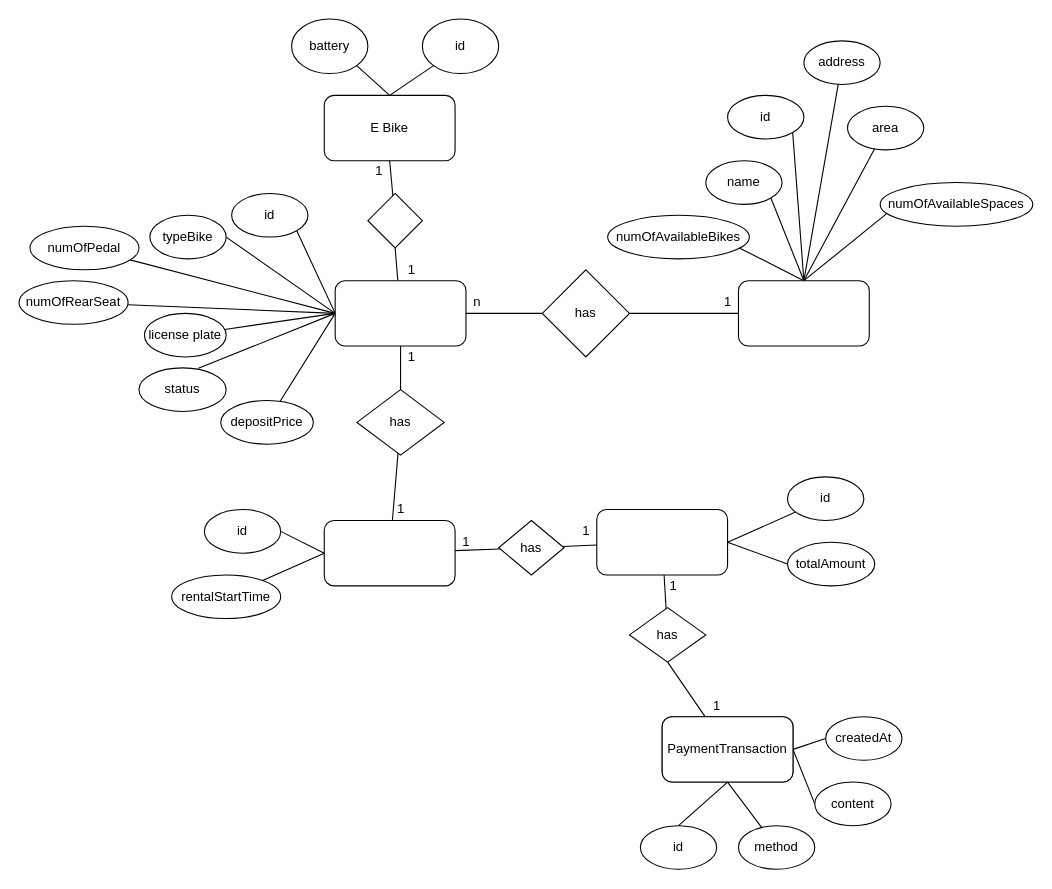
Image size: 1052x889. Some labels were removed from this diagram. The shapes that lost their labels are listed below. From the top down, each one's centre as x and y in pixels, then its label:
At point 394,220: "is_a".
At point 400,313: "Bike".
At point 803,313: "Dock".
At point 389,552: "Rent".
At point 662,541: "Invoice".
